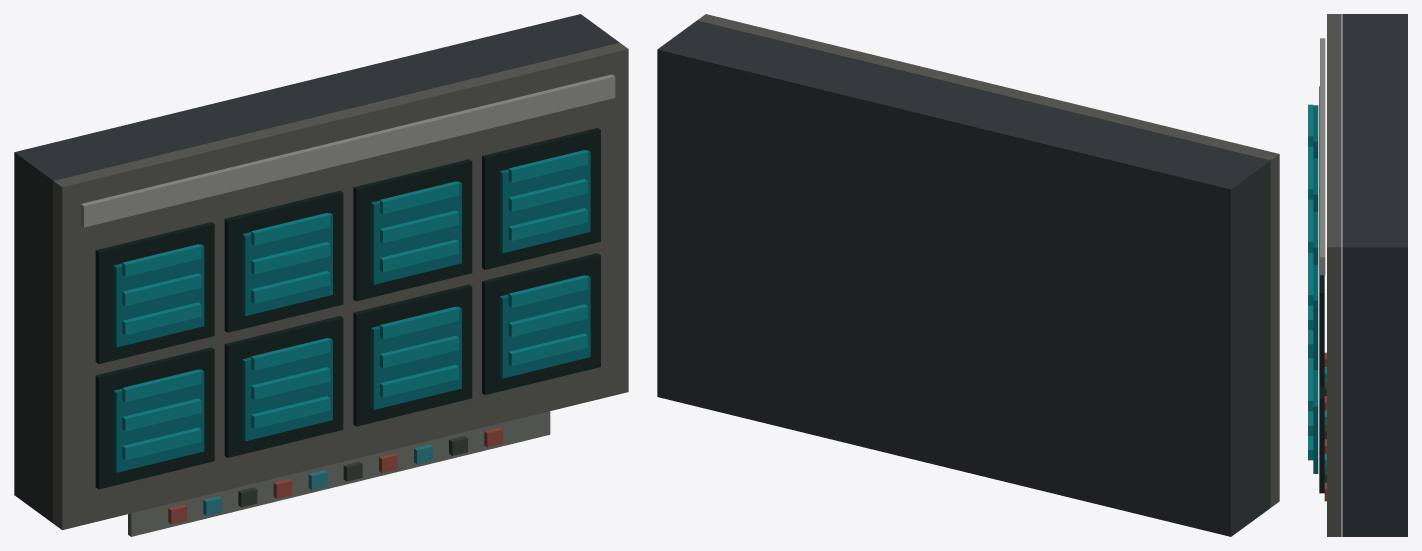
Rendered from CMU3DBlueEightMonitorBank.glb.
3 renders of one model, left to right at view 1: azimuth 30°, elevation 25°; view 2: azimuth 150°, elevation 25°; view 3: azimuth 270°, elevation 25°, orthographic. The views are drawn at different scales.
Parts seen in each view (by area): view 1: monitor front bezel, screen black border (×8), wall monitor rear housing, cyan monitor glass (×8), horizontal monitor scan band (×24), upper monitor silver strip, lower control rail; view 2: wall monitor rear housing, monitor front bezel; view 3: wall monitor rear housing, monitor front bezel, cyan monitor glass (×5), horizontal monitor scan band (×9), upper monitor silver strip, screen black border (×2).
Boxes of the visible parts, box(x1,y1,x2,y2) form: monitor front bezel: box(53, 42, 628, 530); screen black border (×8): box(95, 128, 600, 489); wall monitor rear housing: box(14, 14, 619, 523); cyan monitor glass (×8): box(113, 150, 590, 472); horizontal monitor scan band (×24): box(122, 150, 587, 460); upper monitor silver strip: box(81, 74, 615, 227); lower control rail: box(128, 411, 550, 536); wall monitor rear housing: box(657, 21, 1270, 536); monitor front bezel: box(697, 14, 1279, 507); wall monitor rear housing: box(1342, 14, 1407, 536); monitor front bezel: box(1327, 14, 1341, 536); cyan monitor glass (×5): box(1313, 105, 1318, 473); horizontal monitor scan band (×9): box(1308, 104, 1313, 460); upper monitor silver strip: box(1320, 38, 1325, 275); screen black border (×2): box(1319, 245, 1324, 493).
Size of the model in its own units: 0.968 by 0.606 by 0.175.
